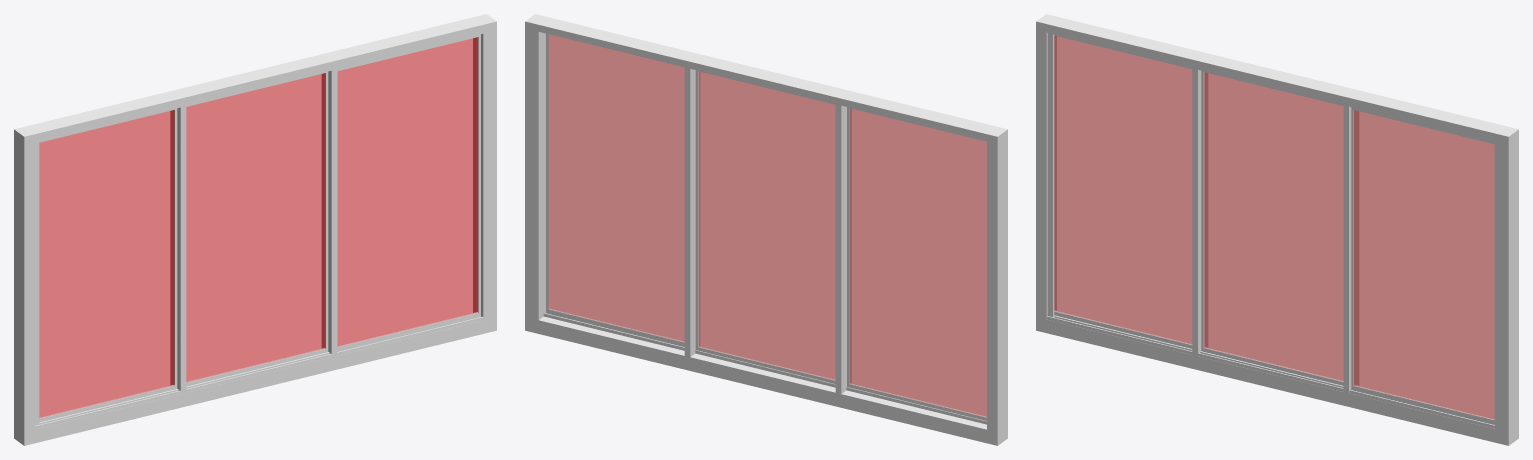
File: wall with windows set 2.FBX
3 renders of one model, left to right at view 1: azimuth 30°, elevation 25°; view 2: azimuth 150°, elevation 25°; view 3: azimuth 330°, elevation 25°, orthographic.
Visible parts, largest first — view 1: wall with windows set 2; view 2: wall with windows set 2; view 3: wall with windows set 2.
Part boxes in pixels (bbox=[...]): wall with windows set 2: bbox=[14, 14, 496, 445]; wall with windows set 2: bbox=[525, 14, 1007, 445]; wall with windows set 2: bbox=[1036, 14, 1518, 445].
Bounding box in the file's own units: 4 × 2.5 × 0.15.
